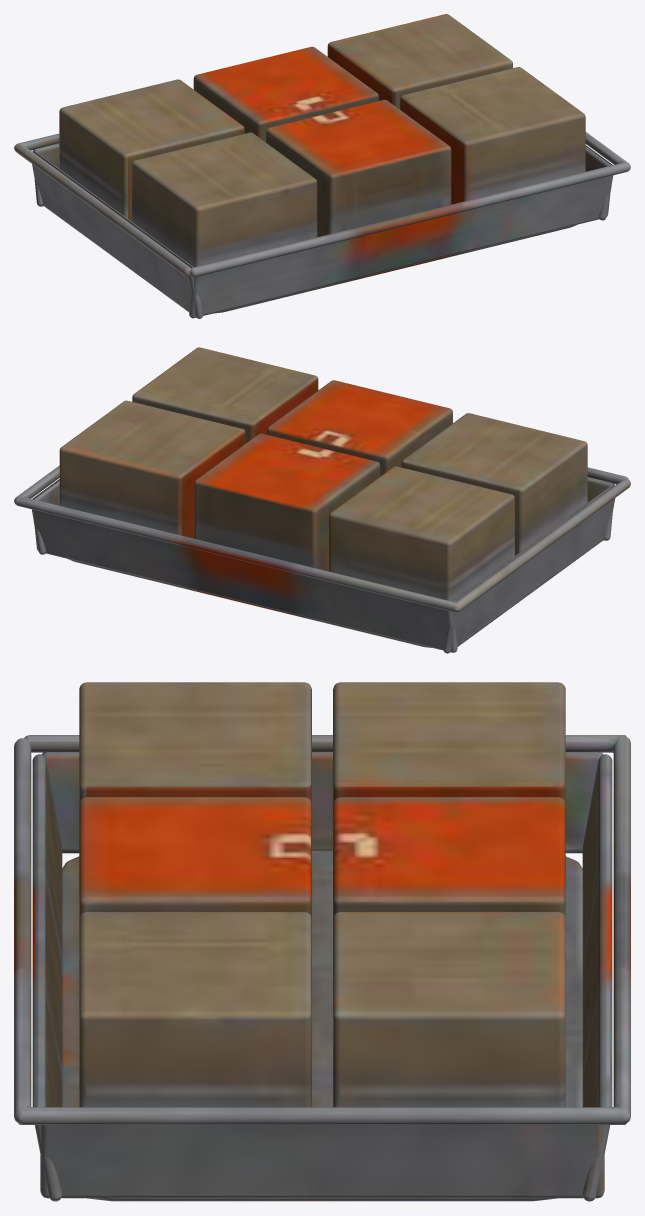
Rendered from protein_pack.glb.
The picture shows the model from 3 angles, top to bottom: view 1: azimuth 30°, elevation 25°; view 2: azimuth 150°, elevation 25°; view 3: azimuth 270°, elevation 25°; orthographic projection. The views are drawn at different scales.
Visible parts, largest first — view 1: protein_pack; view 2: protein_pack; view 3: protein_pack.
Boxes of the visible parts, x1,y1,x2,y2 form: protein_pack: (14,14,630,318); protein_pack: (14,347,630,653); protein_pack: (14,682,630,1201).
Bounding box in the file's own units: 0.255 × 0.058 × 0.175.
Materials: 1 (1 with a texture image).
